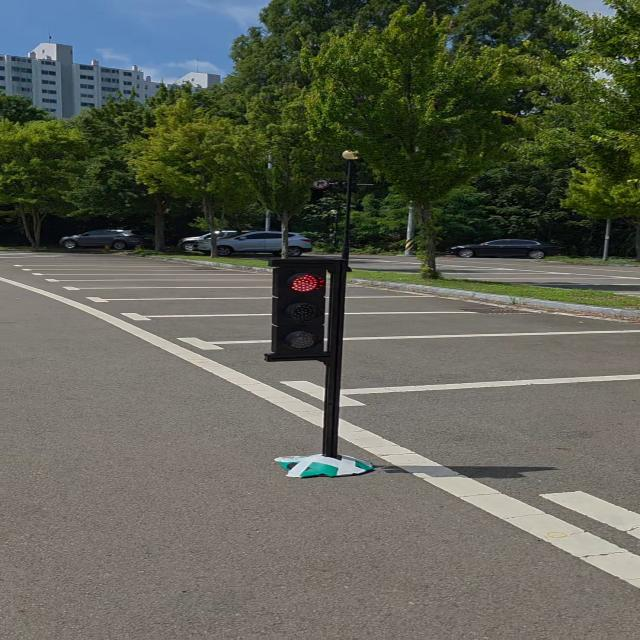red: (262, 254, 352, 370)
